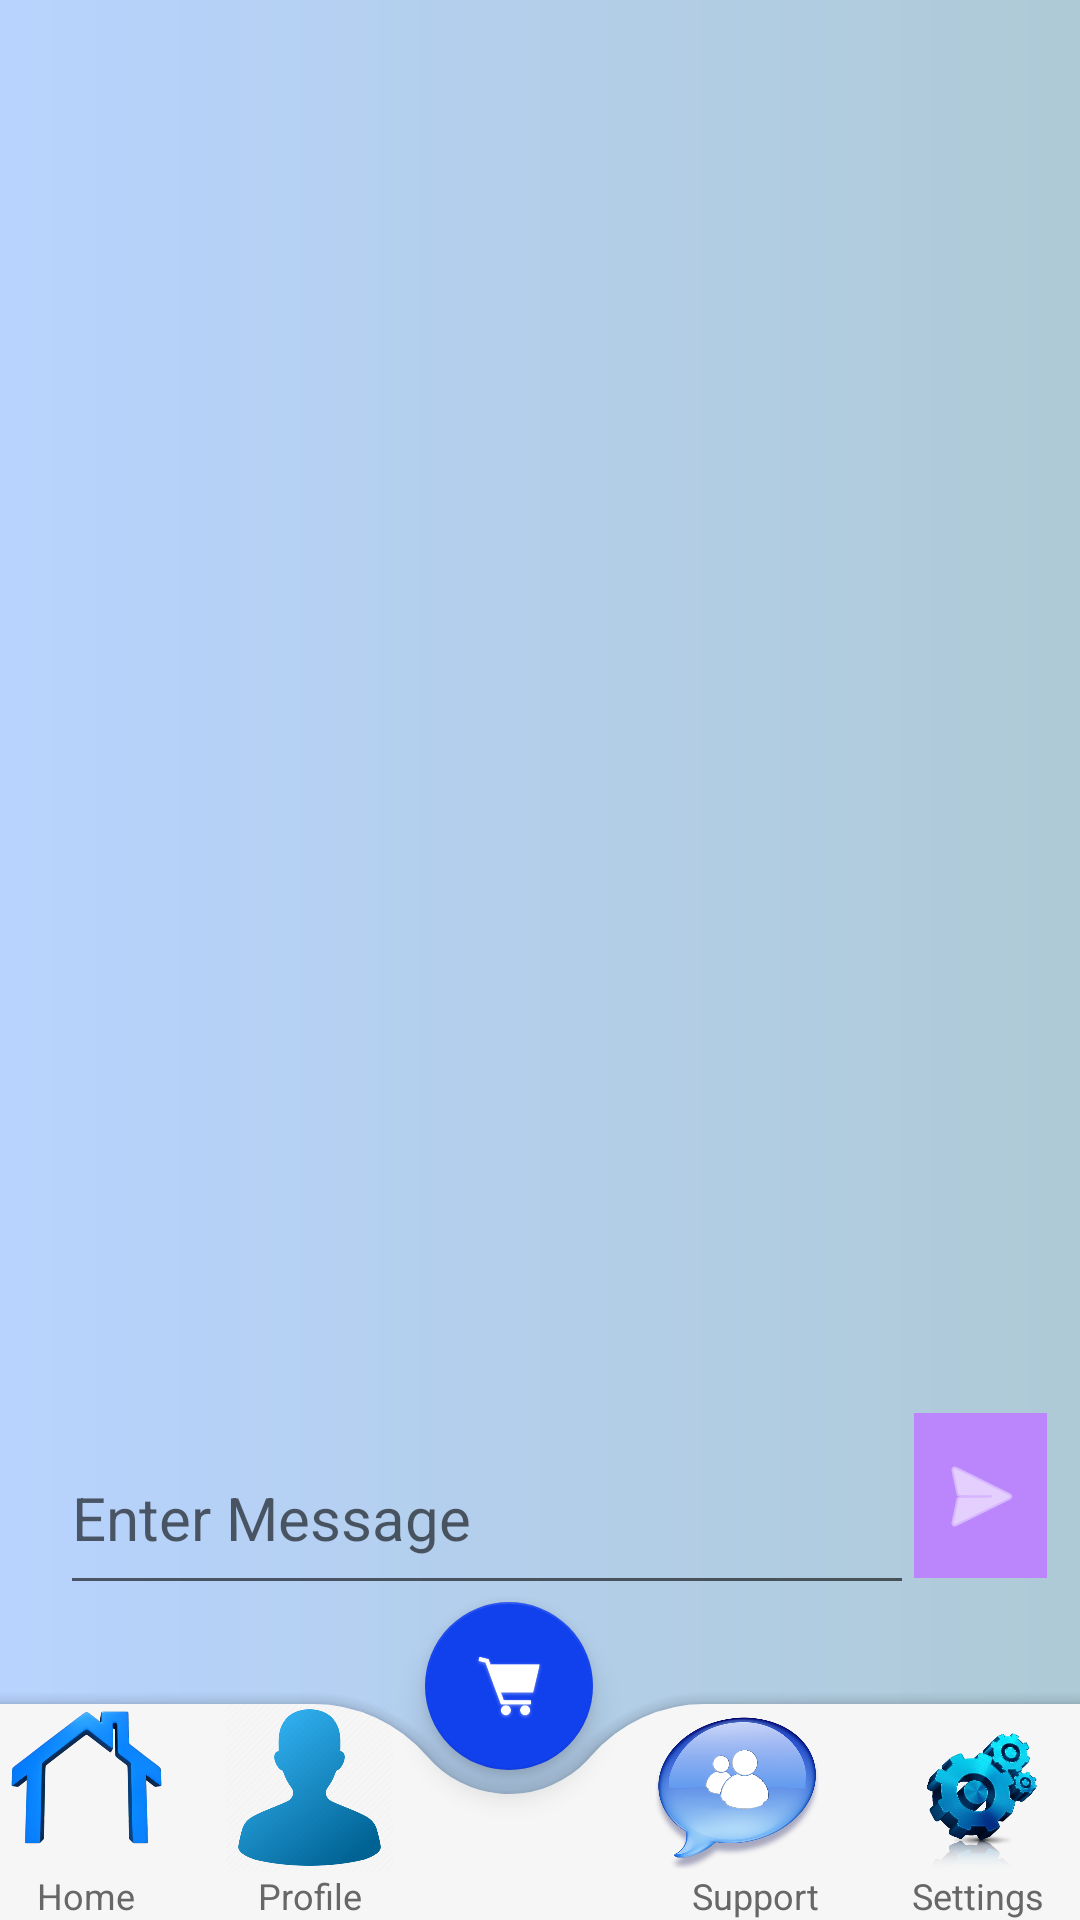

Named icons in this screenshot (1080px x 1920px) and their bounding boxes, box(x1, y1, x2, y2):
send: box(914, 1413, 1047, 1578)
